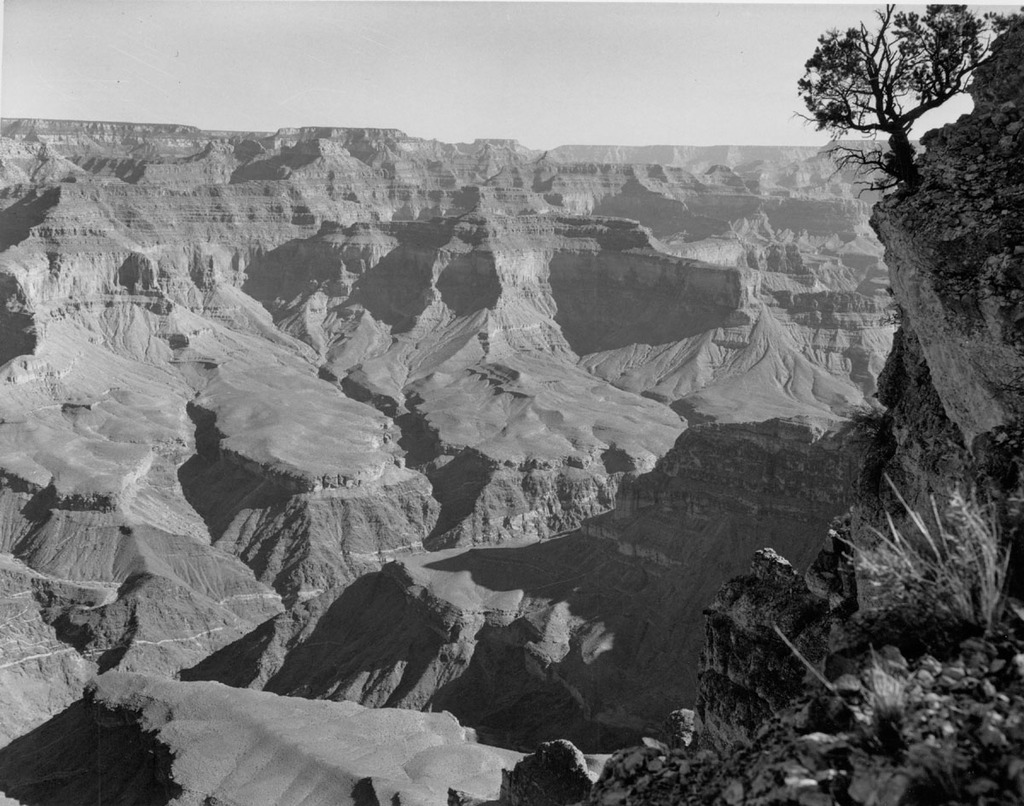Tree: (816, 3, 991, 213)
